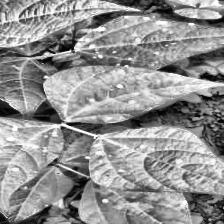Bean Rust: (91, 126, 224, 206), (44, 64, 224, 121), (80, 17, 224, 70), (0, 121, 62, 209), (79, 180, 197, 224), (0, 165, 73, 224), (0, 56, 62, 118)
